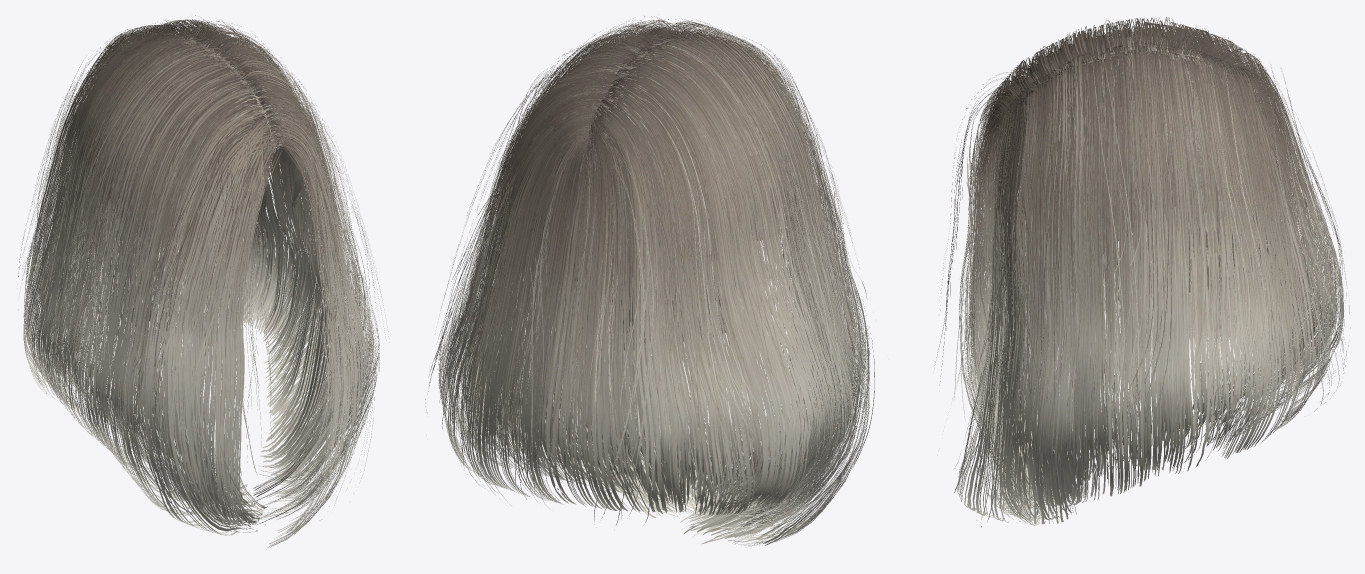
The model's file is dint_hair_12.glb.
3 renders of one model, left to right at view 1: azimuth 30°, elevation 25°; view 2: azimuth 150°, elevation 25°; view 3: azimuth 270°, elevation 25°, orthographic. The views are drawn at different scales.
Visible parts, largest first — view 1: 4L_4L, 3L_3L, 2L_2L, 1R_1R, 5L_5L, 2R_2R, 3R_3R, 4R_4R, 1L_1L, 5R_5R, 1Hl_1HL; view 2: 4L_4L, 3L_3L, 4R_4R, 2L_2L, 3R_3R, 5L_5L, 1L_1L, 5R_5R, 1Hl_1HL, 2R_2R, 1R_1R; view 3: 3R_3R, 4R_4R, 2R_2R, 5R_5R, 1R_1R, 3L_3L, 1L_1L, 4L_4L, 2L_2L, 1Hl_1HL, 5L_5L.
Boxes of the visible parts, <box> form: 4L_4L: <box>23,24,281,535</box>; 3L_3L: <box>26,27,274,532</box>; 2L_2L: <box>35,37,271,529</box>; 1R_1R: <box>105,31,358,497</box>; 5L_5L: <box>17,24,273,508</box>; 2R_2R: <box>111,31,371,518</box>; 3R_3R: <box>106,22,373,524</box>; 4R_4R: <box>113,19,379,548</box>; 1L_1L: <box>52,36,272,504</box>; 5R_5R: <box>144,15,389,519</box>; 1Hl_1HL: <box>77,36,302,260</box>; 4L_4L: <box>547,21,869,547</box>; 3L_3L: <box>545,26,864,544</box>; 4R_4R: <box>437,19,753,518</box>; 2L_2L: <box>559,29,860,541</box>; 3R_3R: <box>446,23,729,517</box>; 5L_5L: <box>544,19,874,527</box>; 1L_1L: <box>583,32,847,530</box>; 5R_5R: <box>425,16,708,508</box>; 1Hl_1HL: <box>511,38,784,350</box>; 2R_2R: <box>459,26,727,514</box>; 1R_1R: <box>483,31,708,504</box>; 3R_3R: <box>979,45,1336,525</box>; 4R_4R: <box>957,42,1344,524</box>; 2R_2R: <box>982,50,1314,520</box>; 5R_5R: <box>952,41,1350,527</box>; 1R_1R: <box>999,51,1307,494</box>; 3L_3L: <box>965,21,1337,523</box>; 1L_1L: <box>972,29,1302,501</box>; 4L_4L: <box>959,18,1342,519</box>; 2L_2L: <box>970,25,1319,515</box>; 1Hl_1HL: <box>1002,35,1276,292</box>; 5L_5L: <box>934,17,1346,429</box>.
Bounding box in the file's own units: 0.2714 × 0.3751 × 0.2849.
Materials: 11 (11 with a texture image).
